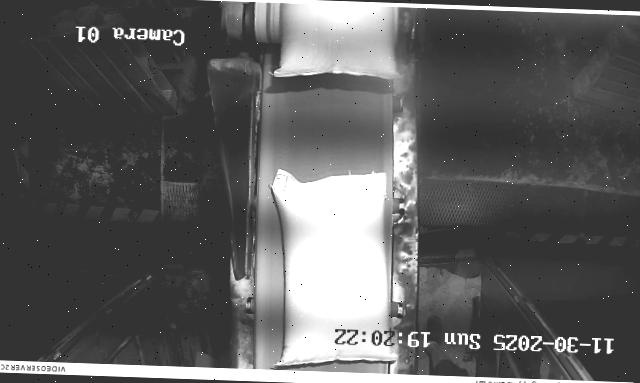bag: (265, 168, 402, 373), (269, 1, 402, 78)
